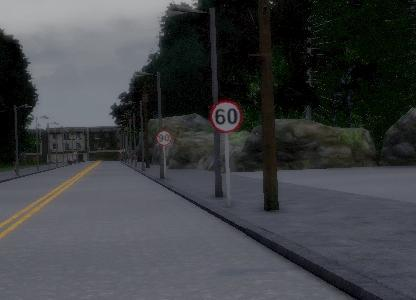Speed_60: (208, 96, 243, 134)
